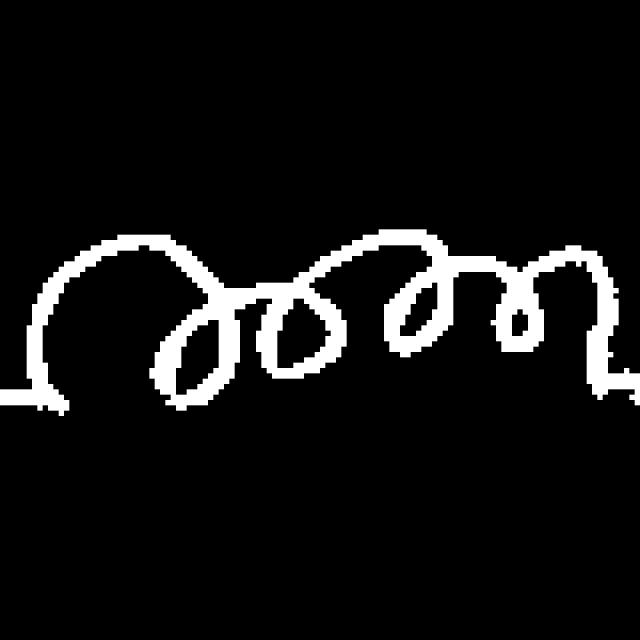inductor: (22, 223, 625, 427)
